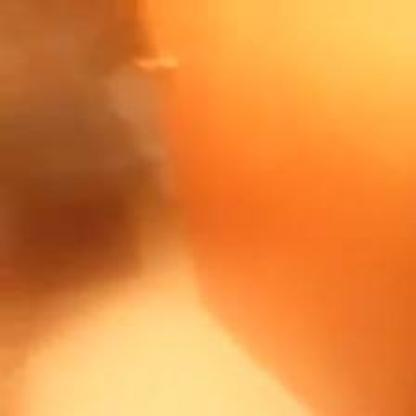other: (131, 14, 393, 374)
